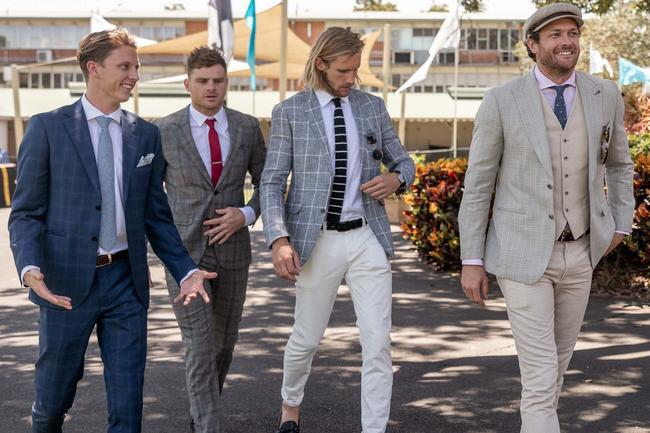Person: (5, 25, 224, 433), (454, 1, 635, 433), (255, 27, 416, 433), (152, 42, 270, 433)
